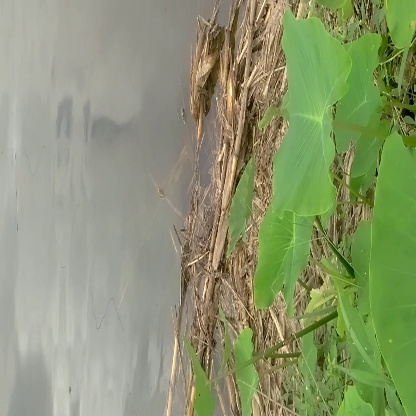leaf: (268, 17, 355, 223)
